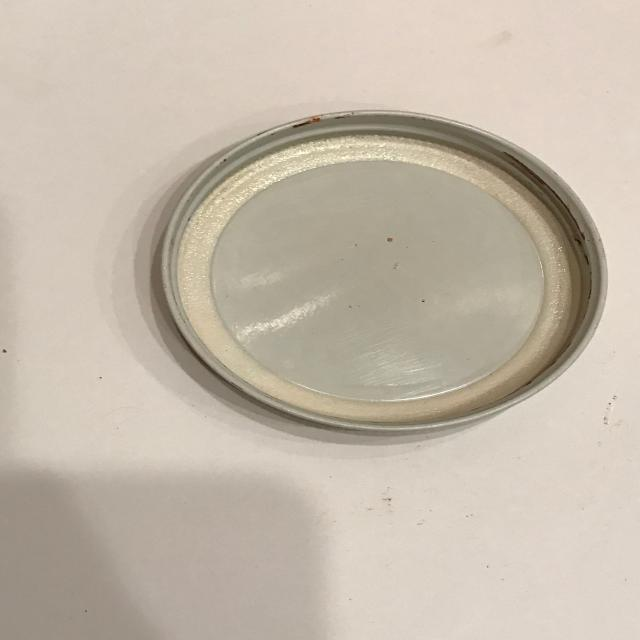metal: (155, 108, 616, 436)
